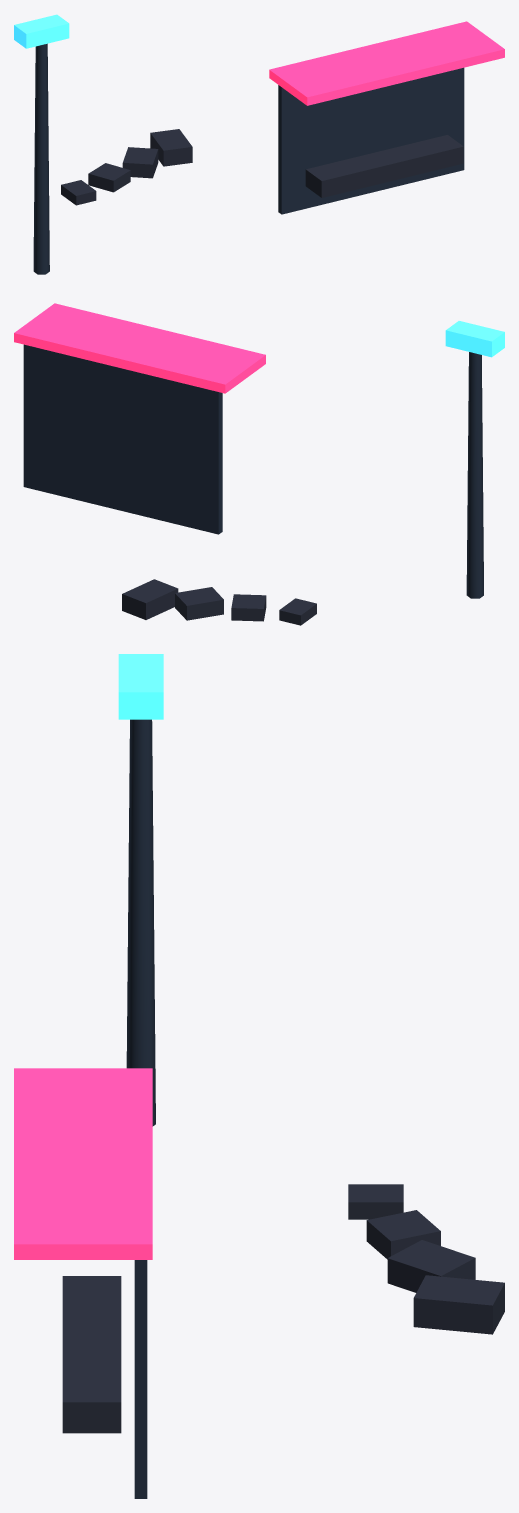
File: city-kit.glb
The picture shows the model from 3 angles, top to bottom: view 1: azimuth 30°, elevation 25°; view 2: azimuth 150°, elevation 25°; view 3: azimuth 270°, elevation 25°; orthographic projection. The views are drawn at different scales.
Visible parts, largest first — view 1: back, roof, bench, pole, lamp, debris_3, debris_2, debris_1, debris_0; view 2: back, roof, pole, debris_3, lamp, debris_2, debris_1, debris_0; view 3: roof, bench, pole, debris_3, back, lamp, debris_2, debris_1, debris_0.
Boxes of the visible parts, x1=… form: back: x1=278, y1=67, x2=464, y2=214; roof: x1=269, y1=21, x2=504, y2=105; bench: x1=305, y1=135, x2=463, y2=197; pole: x1=33, y1=43, x2=49, y2=274; lamp: x1=14, y1=14, x2=69, y2=48; debris_3: x1=150, y1=129, x2=192, y2=166; debris_2: x1=122, y1=147, x2=158, y2=178; debris_1: x1=88, y1=163, x2=130, y2=192; debris_0: x1=61, y1=180, x2=96, y2=205; back: x1=23, y1=344, x2=222, y2=534; roof: x1=14, y1=303, x2=265, y2=393; pole: x1=466, y1=352, x2=483, y2=598; debris_3: x1=122, y1=579, x2=178, y2=619; lamp: x1=445, y1=321, x2=504, y2=357; debris_2: x1=175, y1=587, x2=223, y2=620; debris_1: x1=231, y1=594, x2=266, y2=621; debris_0: x1=279, y1=598, x2=316, y2=625; roof: x1=14, y1=1068, x2=152, y2=1259; bench: x1=62, y1=1276, x2=121, y2=1433; pole: x1=126, y1=719, x2=155, y2=1126; debris_3: x1=413, y1=1275, x2=504, y2=1334; back: x1=134, y1=1260, x2=147, y2=1498; lamp: x1=118, y1=654, x2=163, y2=719; debris_2: x1=387, y1=1240, x2=475, y2=1292; debris_1: x1=366, y1=1210, x2=440, y2=1259; debris_0: x1=348, y1=1184, x2=403, y2=1219.
Size of the model in its own units: 8.88 by 4.68 by 4.6.
